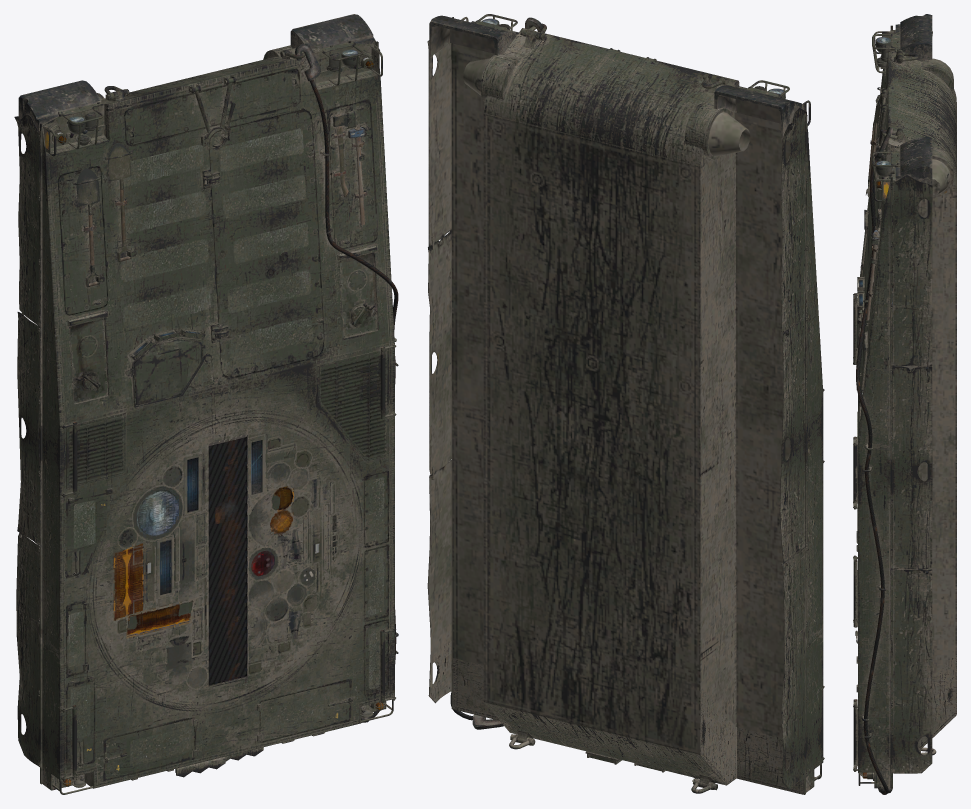
Rendered from Hull.glb.
3 views of the same model, side by side, from view 1: azimuth 30°, elevation 25°; view 2: azimuth 150°, elevation 25°; view 3: azimuth 270°, elevation 25° (orthographic). The views are drawn at different scales.
Visible parts, largest first — view 1: set_0_group_0; view 2: set_0_group_0; view 3: set_0_group_0.
Boxes of the visible parts, bbox=[...] form: set_0_group_0: bbox=[14, 14, 398, 794]; set_0_group_0: bbox=[427, 14, 824, 794]; set_0_group_0: bbox=[853, 14, 956, 794].
Size of the model in its own units: 3.21 by 6.08 by 0.8921.
1 material, 1 textured.
